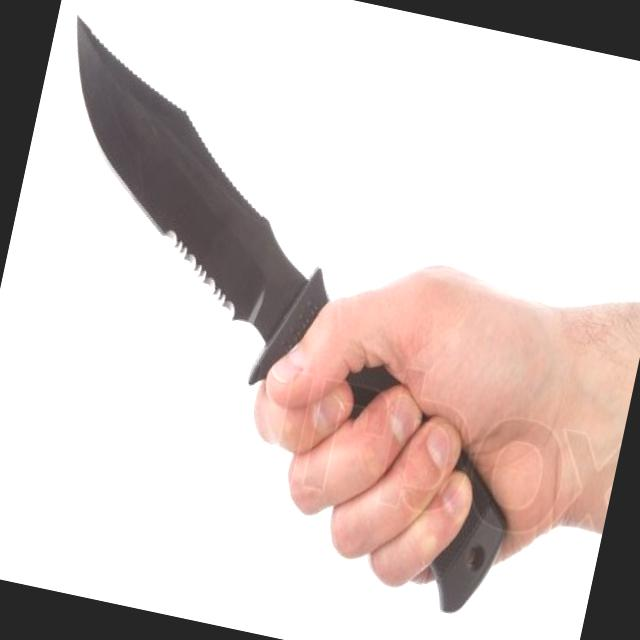knife: (0, 0, 538, 598)
